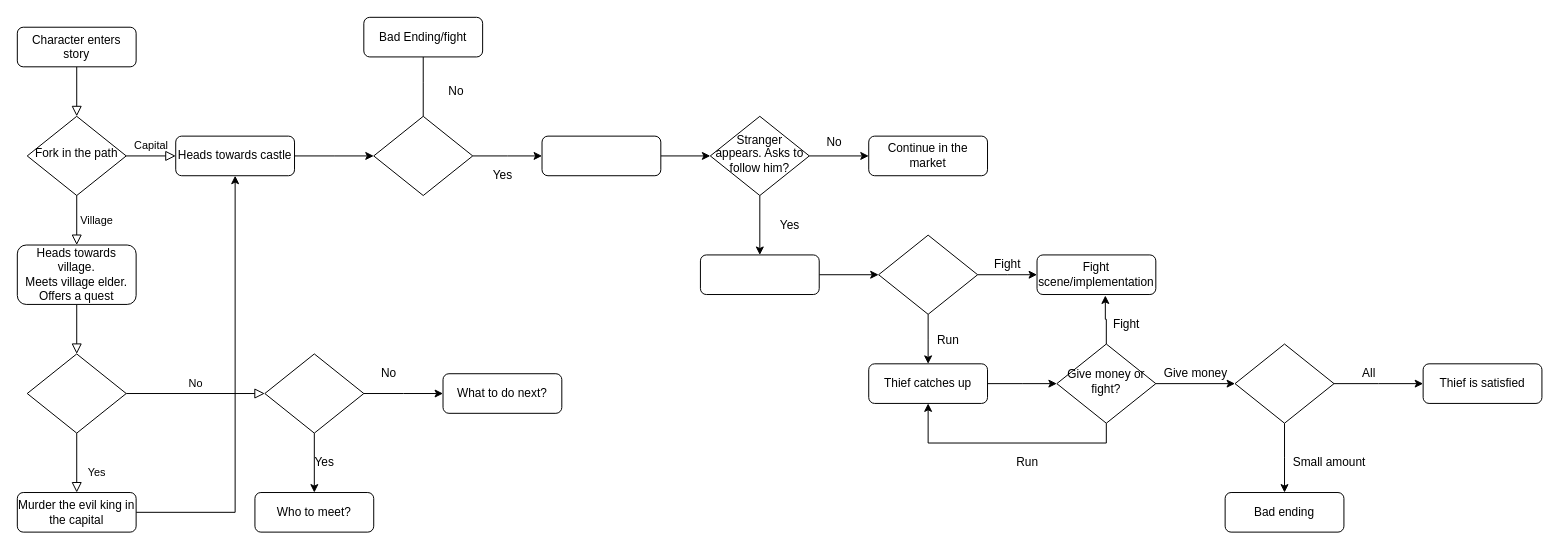
Some shapes in this 1559 by 549 pixel diagram are drawn without their labels. The shapes that lost their labels are listed below. From the top down, each one's box as (x1, y1, x2, y2) in pixels, then its label:
(373, 115, 473, 196): Guards want a toll. Pay?
(541, 135, 661, 176): Heads to the market
(699, 254, 819, 295): Its a thief!
(878, 234, 978, 314): Run or fight?
(26, 353, 126, 433): Accept Quest?
(264, 353, 364, 433): Explore village?
(1234, 343, 1334, 423): Give all or a small amount?
